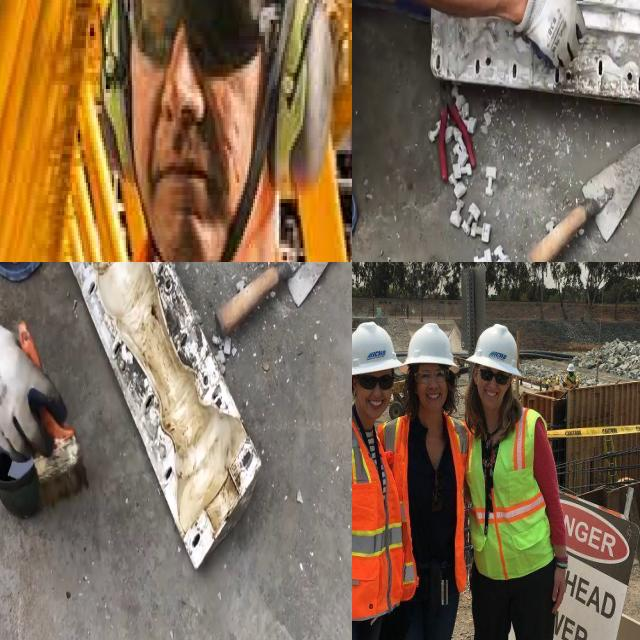Ear-protection: (264, 0, 336, 194), (94, 0, 128, 174)
face_nomask: (357, 369, 395, 415), (416, 361, 450, 408), (480, 362, 508, 404)
glasses: (110, 0, 273, 72), (413, 363, 452, 387), (356, 372, 396, 394), (476, 366, 512, 388)
hand_glove: (0, 302, 64, 458), (508, 0, 584, 68)
hand_noglove: (543, 554, 579, 610)
head_helmet: (466, 323, 523, 377), (406, 323, 460, 374), (352, 322, 402, 376)
person: (465, 321, 568, 640), (394, 323, 467, 640), (352, 321, 398, 640)
vest: (468, 405, 557, 579), (381, 416, 468, 590), (352, 407, 396, 605)
